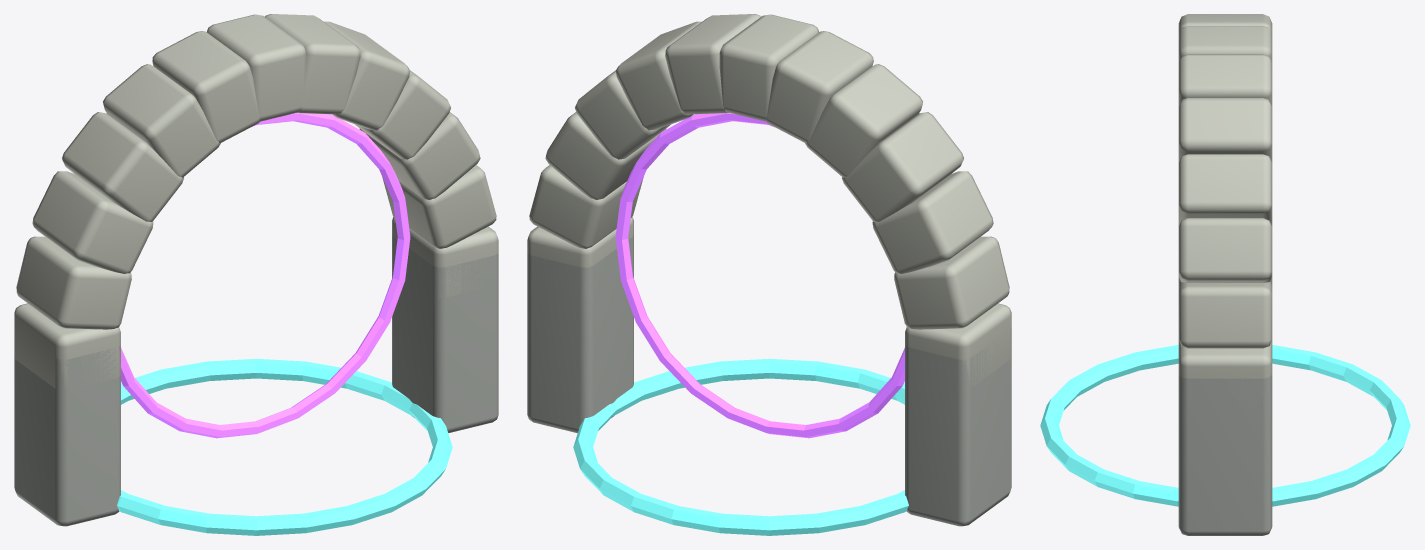
Rendered from portail.glb.
3 views of the same model, side by side, from view 1: azimuth 30°, elevation 25°; view 2: azimuth 150°, elevation 25°; view 3: azimuth 270°, elevation 25° (orthographic). The views are drawn at different scales.
Visible parts, largest first — view 1: pierre_claire, pierre, cristal, magie; view 2: pierre_claire, pierre, cristal, magie; view 3: pierre_claire, pierre, cristal.
Part boxes in pixels (<box>): pierre_claire: <box>14,14,498,389</box>; pierre: <box>14,234,498,526</box>; cristal: <box>117,358,452,535</box>; magie: <box>121,113,410,438</box>; pierre_claire: <box>527,14,1011,389</box>; pierre: <box>527,234,1011,526</box>; cristal: <box>573,358,908,535</box>; magie: <box>615,113,904,438</box>; pierre_claire: <box>1178,14,1272,407</box>; pierre: <box>1178,224,1272,535</box>; cristal: <box>1040,345,1410,506</box>.
Size of the model in its own units: 1.29 by 1.19 by 0.99.
